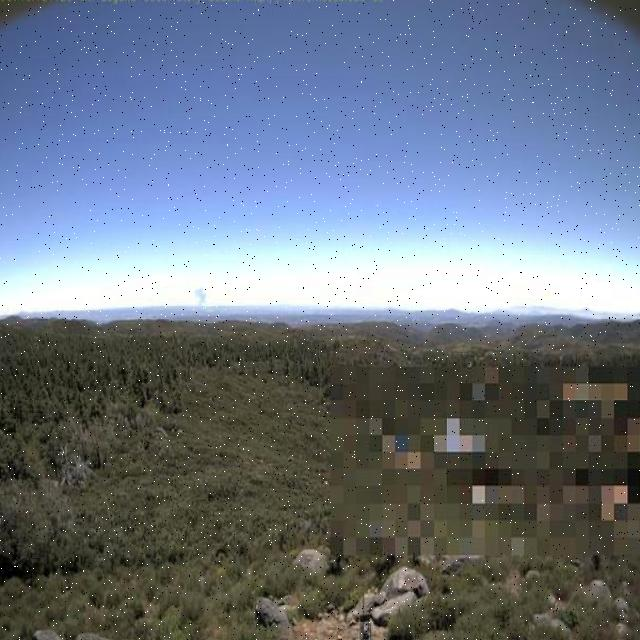smoke: (188, 285, 208, 310)
